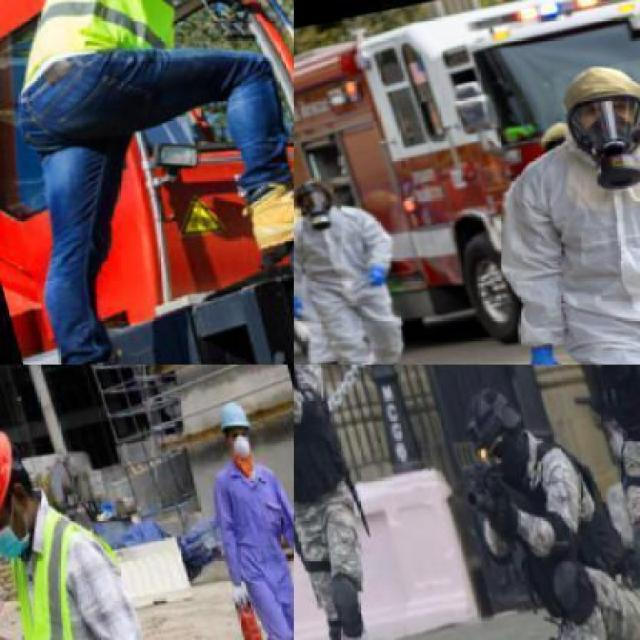Vest: (463, 111, 639, 363), (468, 432, 623, 602), (0, 500, 166, 638), (0, 0, 192, 86), (294, 195, 411, 312), (294, 364, 349, 510), (554, 365, 638, 457)
